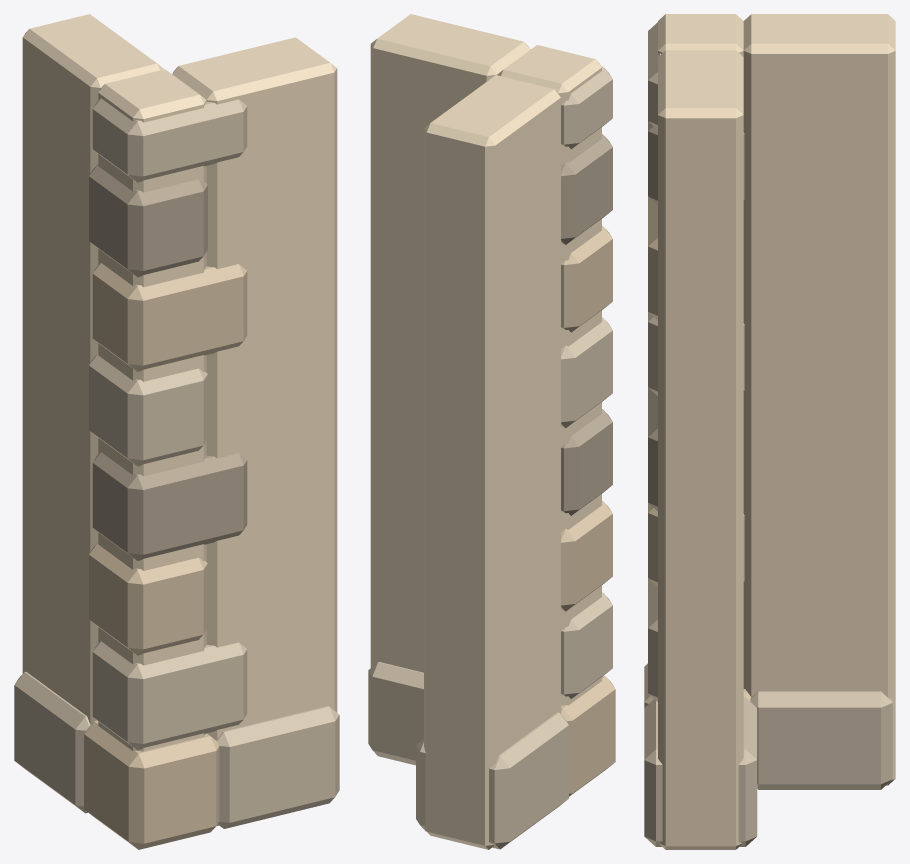
Rendered from wall_corner.glb.
3 views of the same model, side by side, from view 1: azimuth 30°, elevation 25°; view 2: azimuth 150°, elevation 25°; view 3: azimuth 270°, elevation 25° (orthographic). The views are drawn at different scales.
Visible parts, largest first — view 1: wall_corner; view 2: wall_corner; view 3: wall_corner.
Boxes of the visible parts, x1=… form: wall_corner: x1=14, y1=14, x2=339, y2=849; wall_corner: x1=368, y1=14, x2=615, y2=849; wall_corner: x1=644, y1=14, x2=895, y2=849.
Size of the model in its own units: 0.645 by 2.1 by 0.645.
